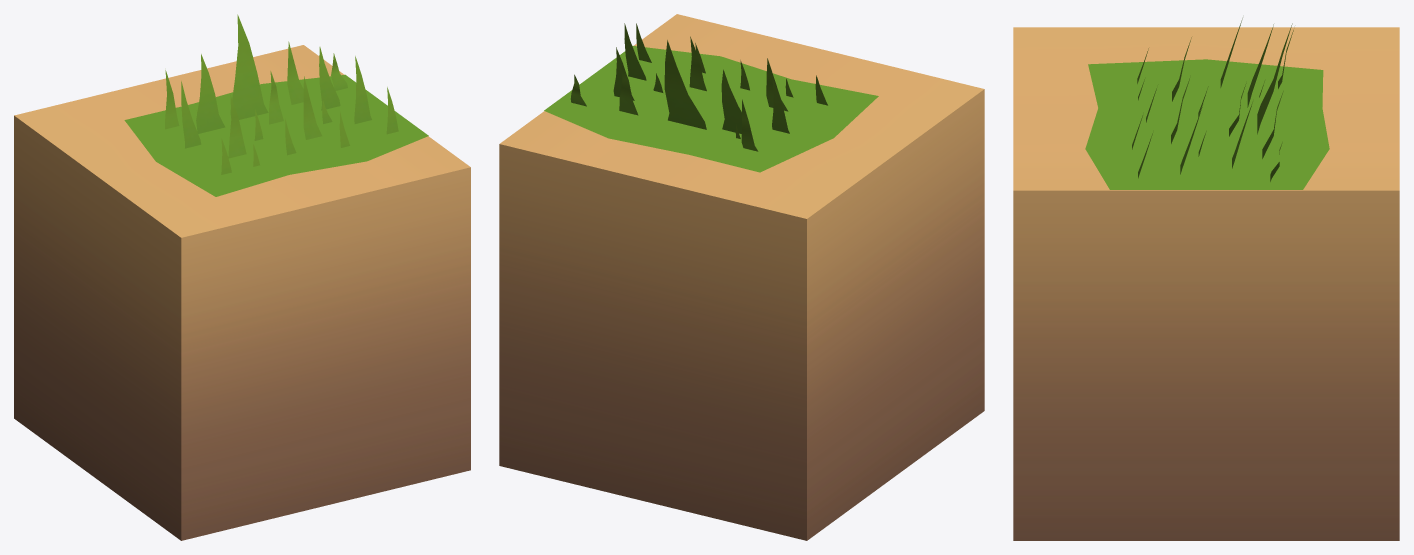
Rendered from threesidea l tile.fbx.
The picture shows the model from 3 angles, left to right: view 1: azimuth 30°, elevation 25°; view 2: azimuth 150°, elevation 25°; view 3: azimuth 270°, elevation 25°; orthographic projection. The views are drawn at different scales.
Parts seen in each view (by area): view 1: thsidea_l_ground, thsidea_l, thsidea_l_grass; view 2: thsidea_l_ground, thsidea_l, thsidea_l_grass; view 3: thsidea_l_ground, thsidea_l, thsidea_l_grass.
Boxes of the visible parts, x1=… form: thsidea_l_ground: x1=14, y1=45, x2=470, y2=540; thsidea_l: x1=124, y1=74, x2=428, y2=196; thsidea_l_grass: x1=165, y1=14, x2=398, y2=174; thsidea_l_ground: x1=499, y1=14, x2=984, y2=540; thsidea_l: x1=544, y1=45, x2=878, y2=172; thsidea_l_grass: x1=570, y1=23, x2=827, y2=151; thsidea_l_ground: x1=1013, y1=27, x2=1399, y2=540; thsidea_l: x1=1085, y1=59, x2=1329, y2=189; thsidea_l_grass: x1=1132, y1=18, x2=1293, y2=181.
Bounding box in the file's own units: 10 × 13.03 × 10.
